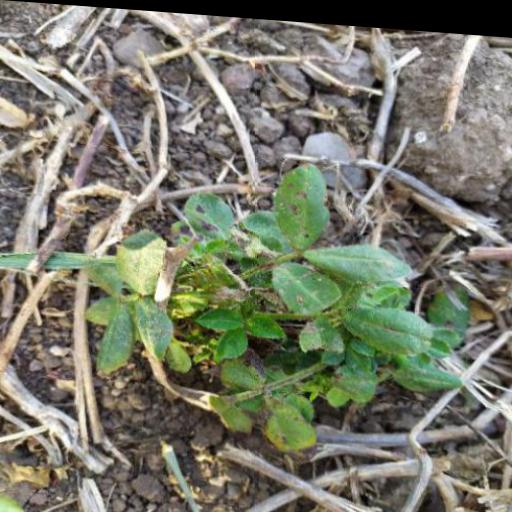weed: (92, 145, 466, 453)
